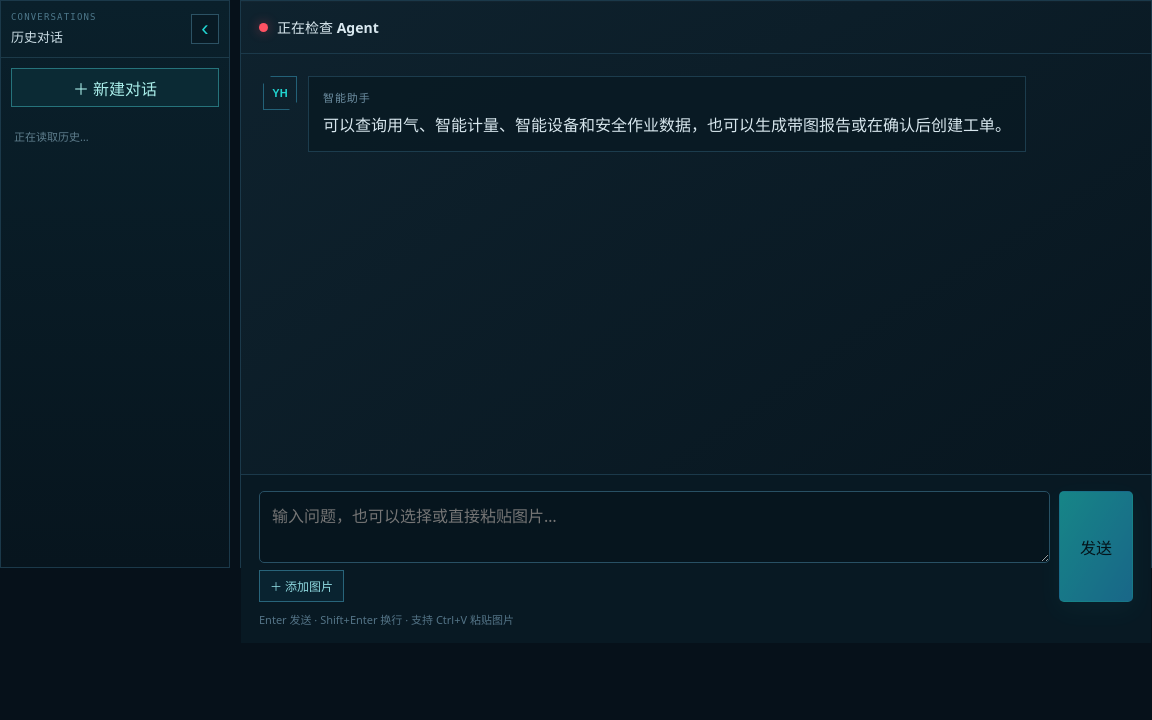
智能问答页面 › SQL 查询不会自动打开面板，可由当前回答按钮打开并隐藏
Type "查询超过1000立方米的用户" into the text box named "对话输入".
click(654, 527); type("查询超过1000立方米的用户")  # box [259,491,1050,563]
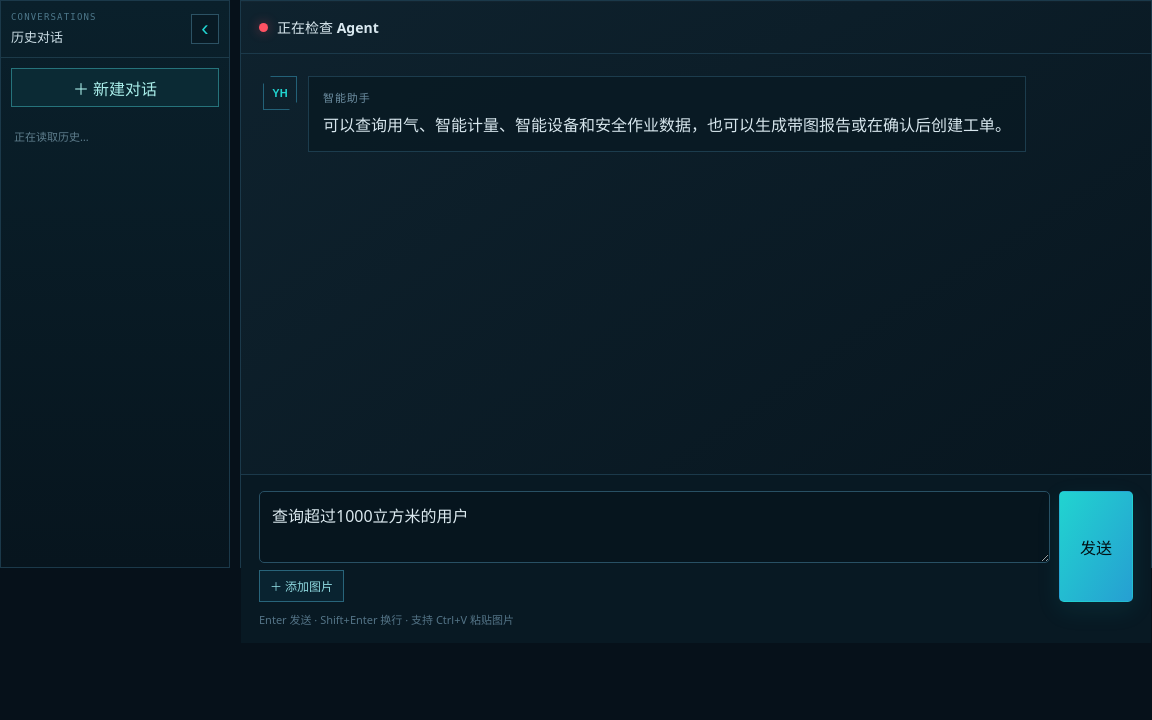
Click the button "发送".
click(1096, 546)  # box [1059,491,1133,602]
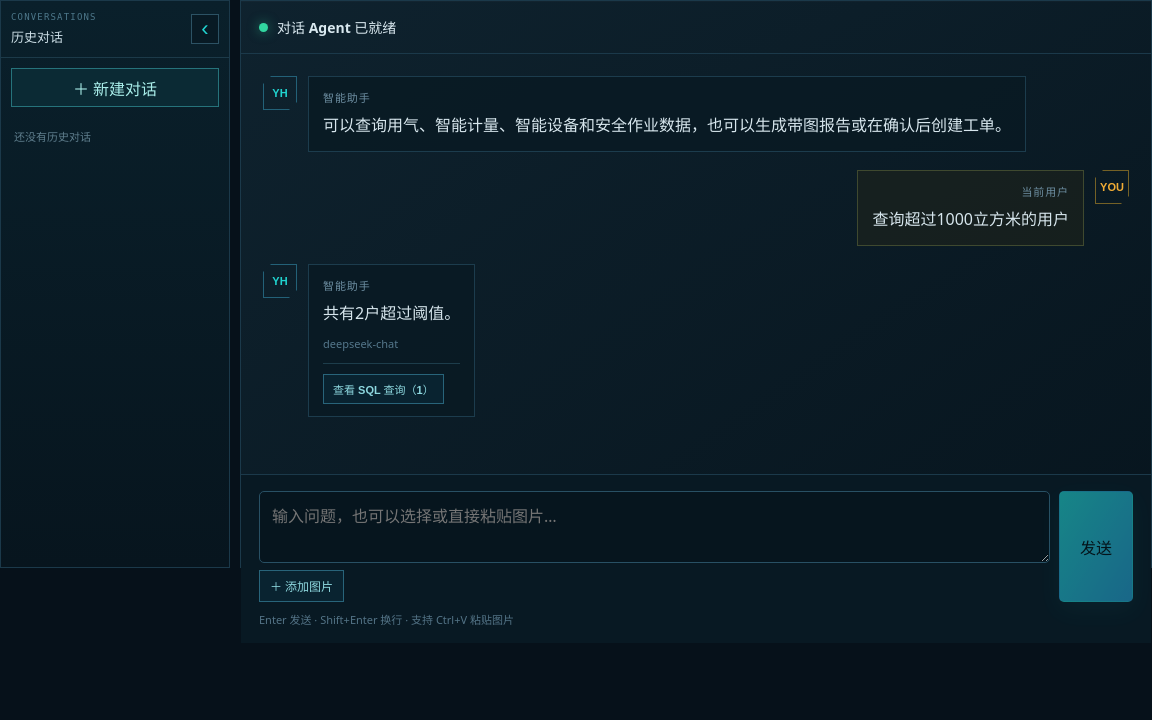
Expected: the element "数据与报告" is not shown
Expected: the text "共有2户超过阈值。" is shown, [323,299,460,327]
Expected: the text "deepseek-chat" is shown, [323,336,398,351]
Click the button "查看 SQL 查询（1）".
click(383, 389)  # box [323,374,444,404]
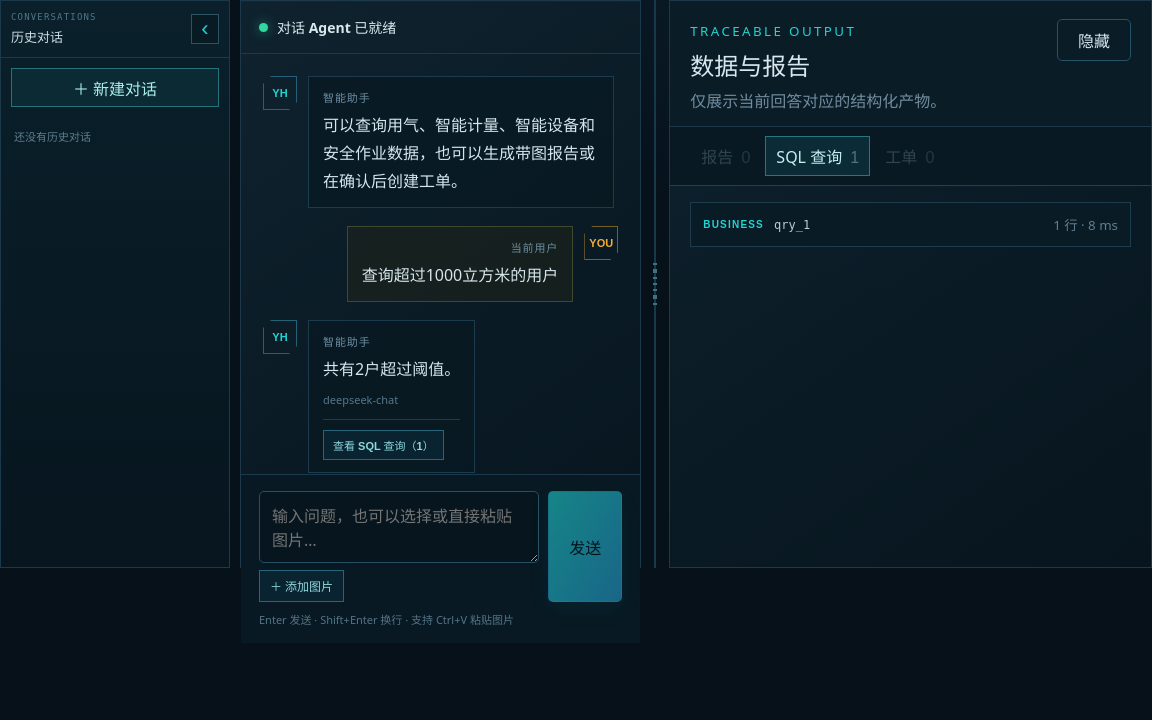
Expected: the text "qry_1" is shown, [774,218,810,232]
Click the button "隐藏".
click(1094, 40)  # box [1057,19,1131,61]
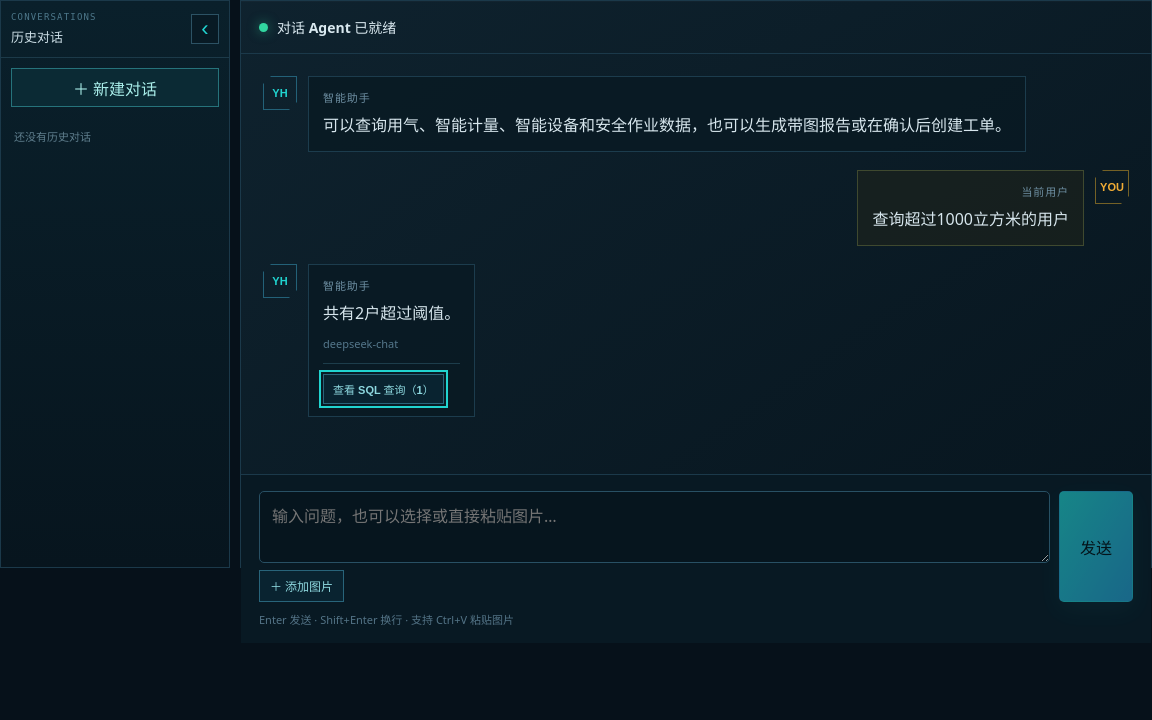
Expected: the heading "数据与报告" is gone
